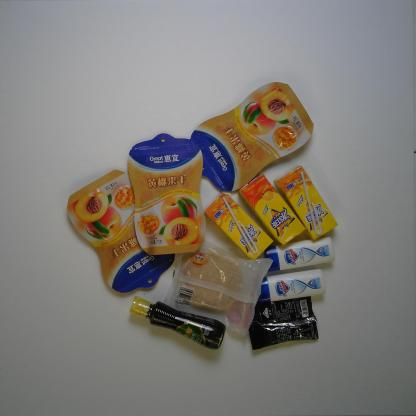Dessert: (159, 237, 280, 337)
Dried Fruit: (185, 79, 314, 193), (64, 169, 177, 295), (122, 131, 214, 255)
Drink: (270, 165, 341, 241), (236, 172, 308, 246), (204, 188, 276, 261)
Instant Drink: (248, 291, 322, 354)
Personal Hygiene: (260, 236, 338, 271), (255, 268, 328, 302)
Seasoner: (124, 289, 227, 352)
